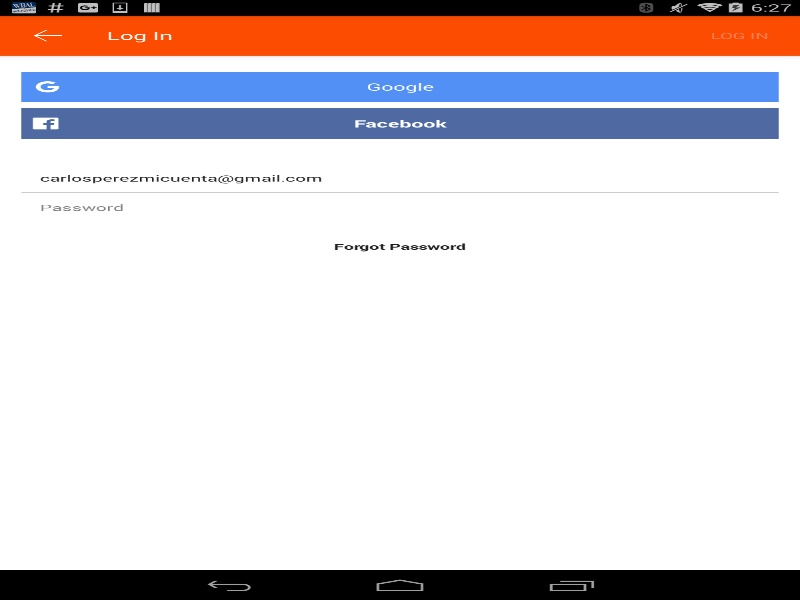Button: (21, 108, 778, 139), (21, 71, 778, 101), (10, 15, 85, 55)
Input: (21, 192, 778, 222), (21, 163, 778, 192)
